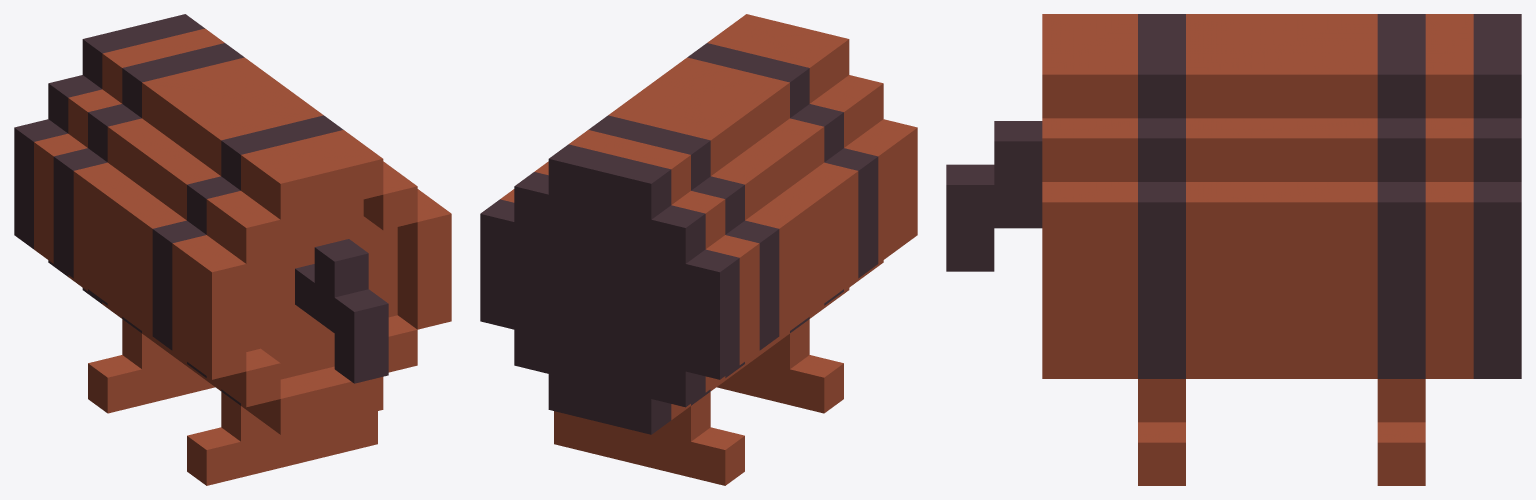
Rendered from beer_barrel_a.obj.
3 renders of one model, left to right at view 1: azimuth 30°, elevation 25°; view 2: azimuth 150°, elevation 25°; view 3: azimuth 270°, elevation 25°, orthographic. The views are drawn at different scales.
Bounding box in the file's own units: 0.7 × 0.9 × 1.2.
1 material, 1 textured.
